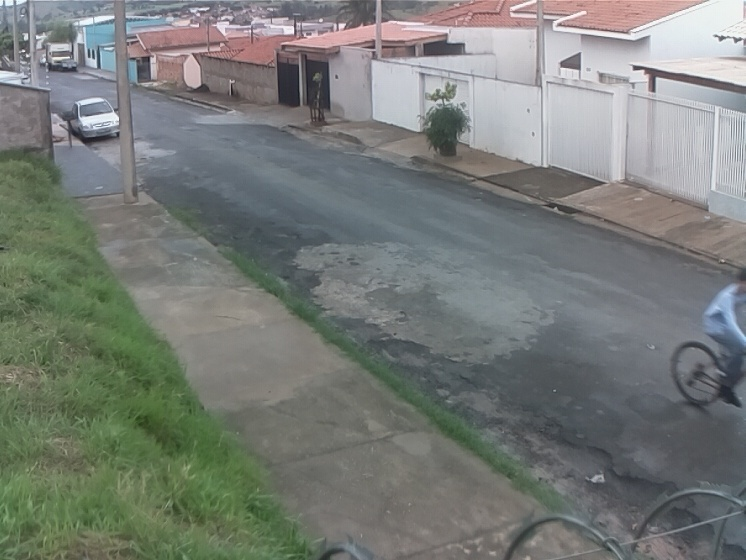person: (695, 263, 746, 410)
